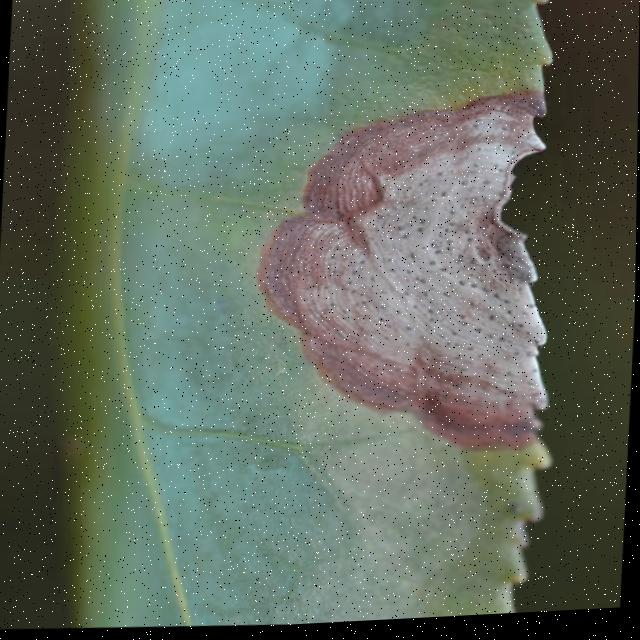Tea cloud leaf blight: (265, 90, 578, 455)
